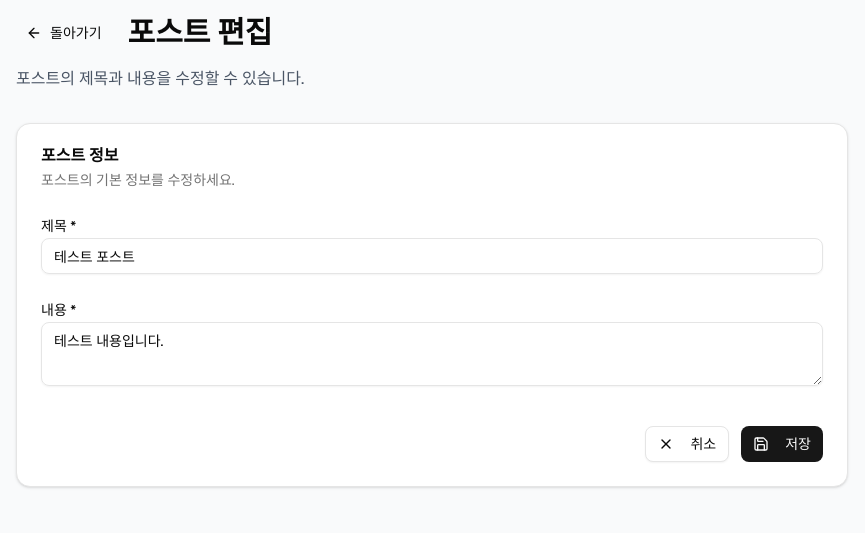
PostEditPage › 폼 검증 › should show validation error for empty title
Clear the field labelled "제목 *" at (432, 256), box [41, 238, 823, 274]
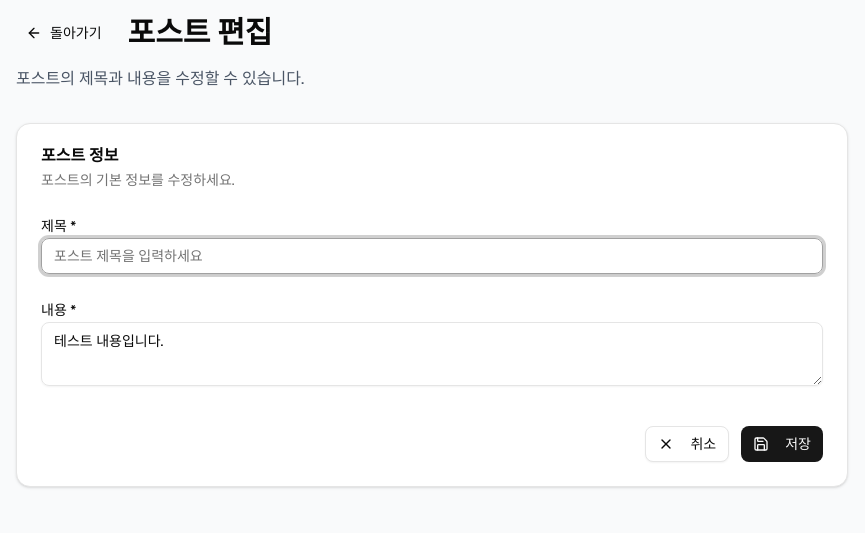
Click the button "저장" at (782, 444), box [741, 426, 823, 462]
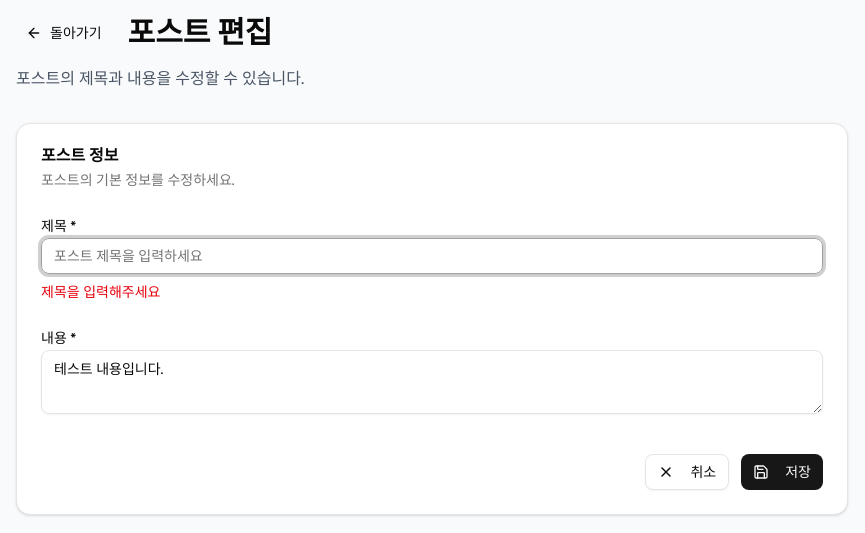
Now the text "제목을 입력해주세요" is shown, box [41, 283, 160, 301]
